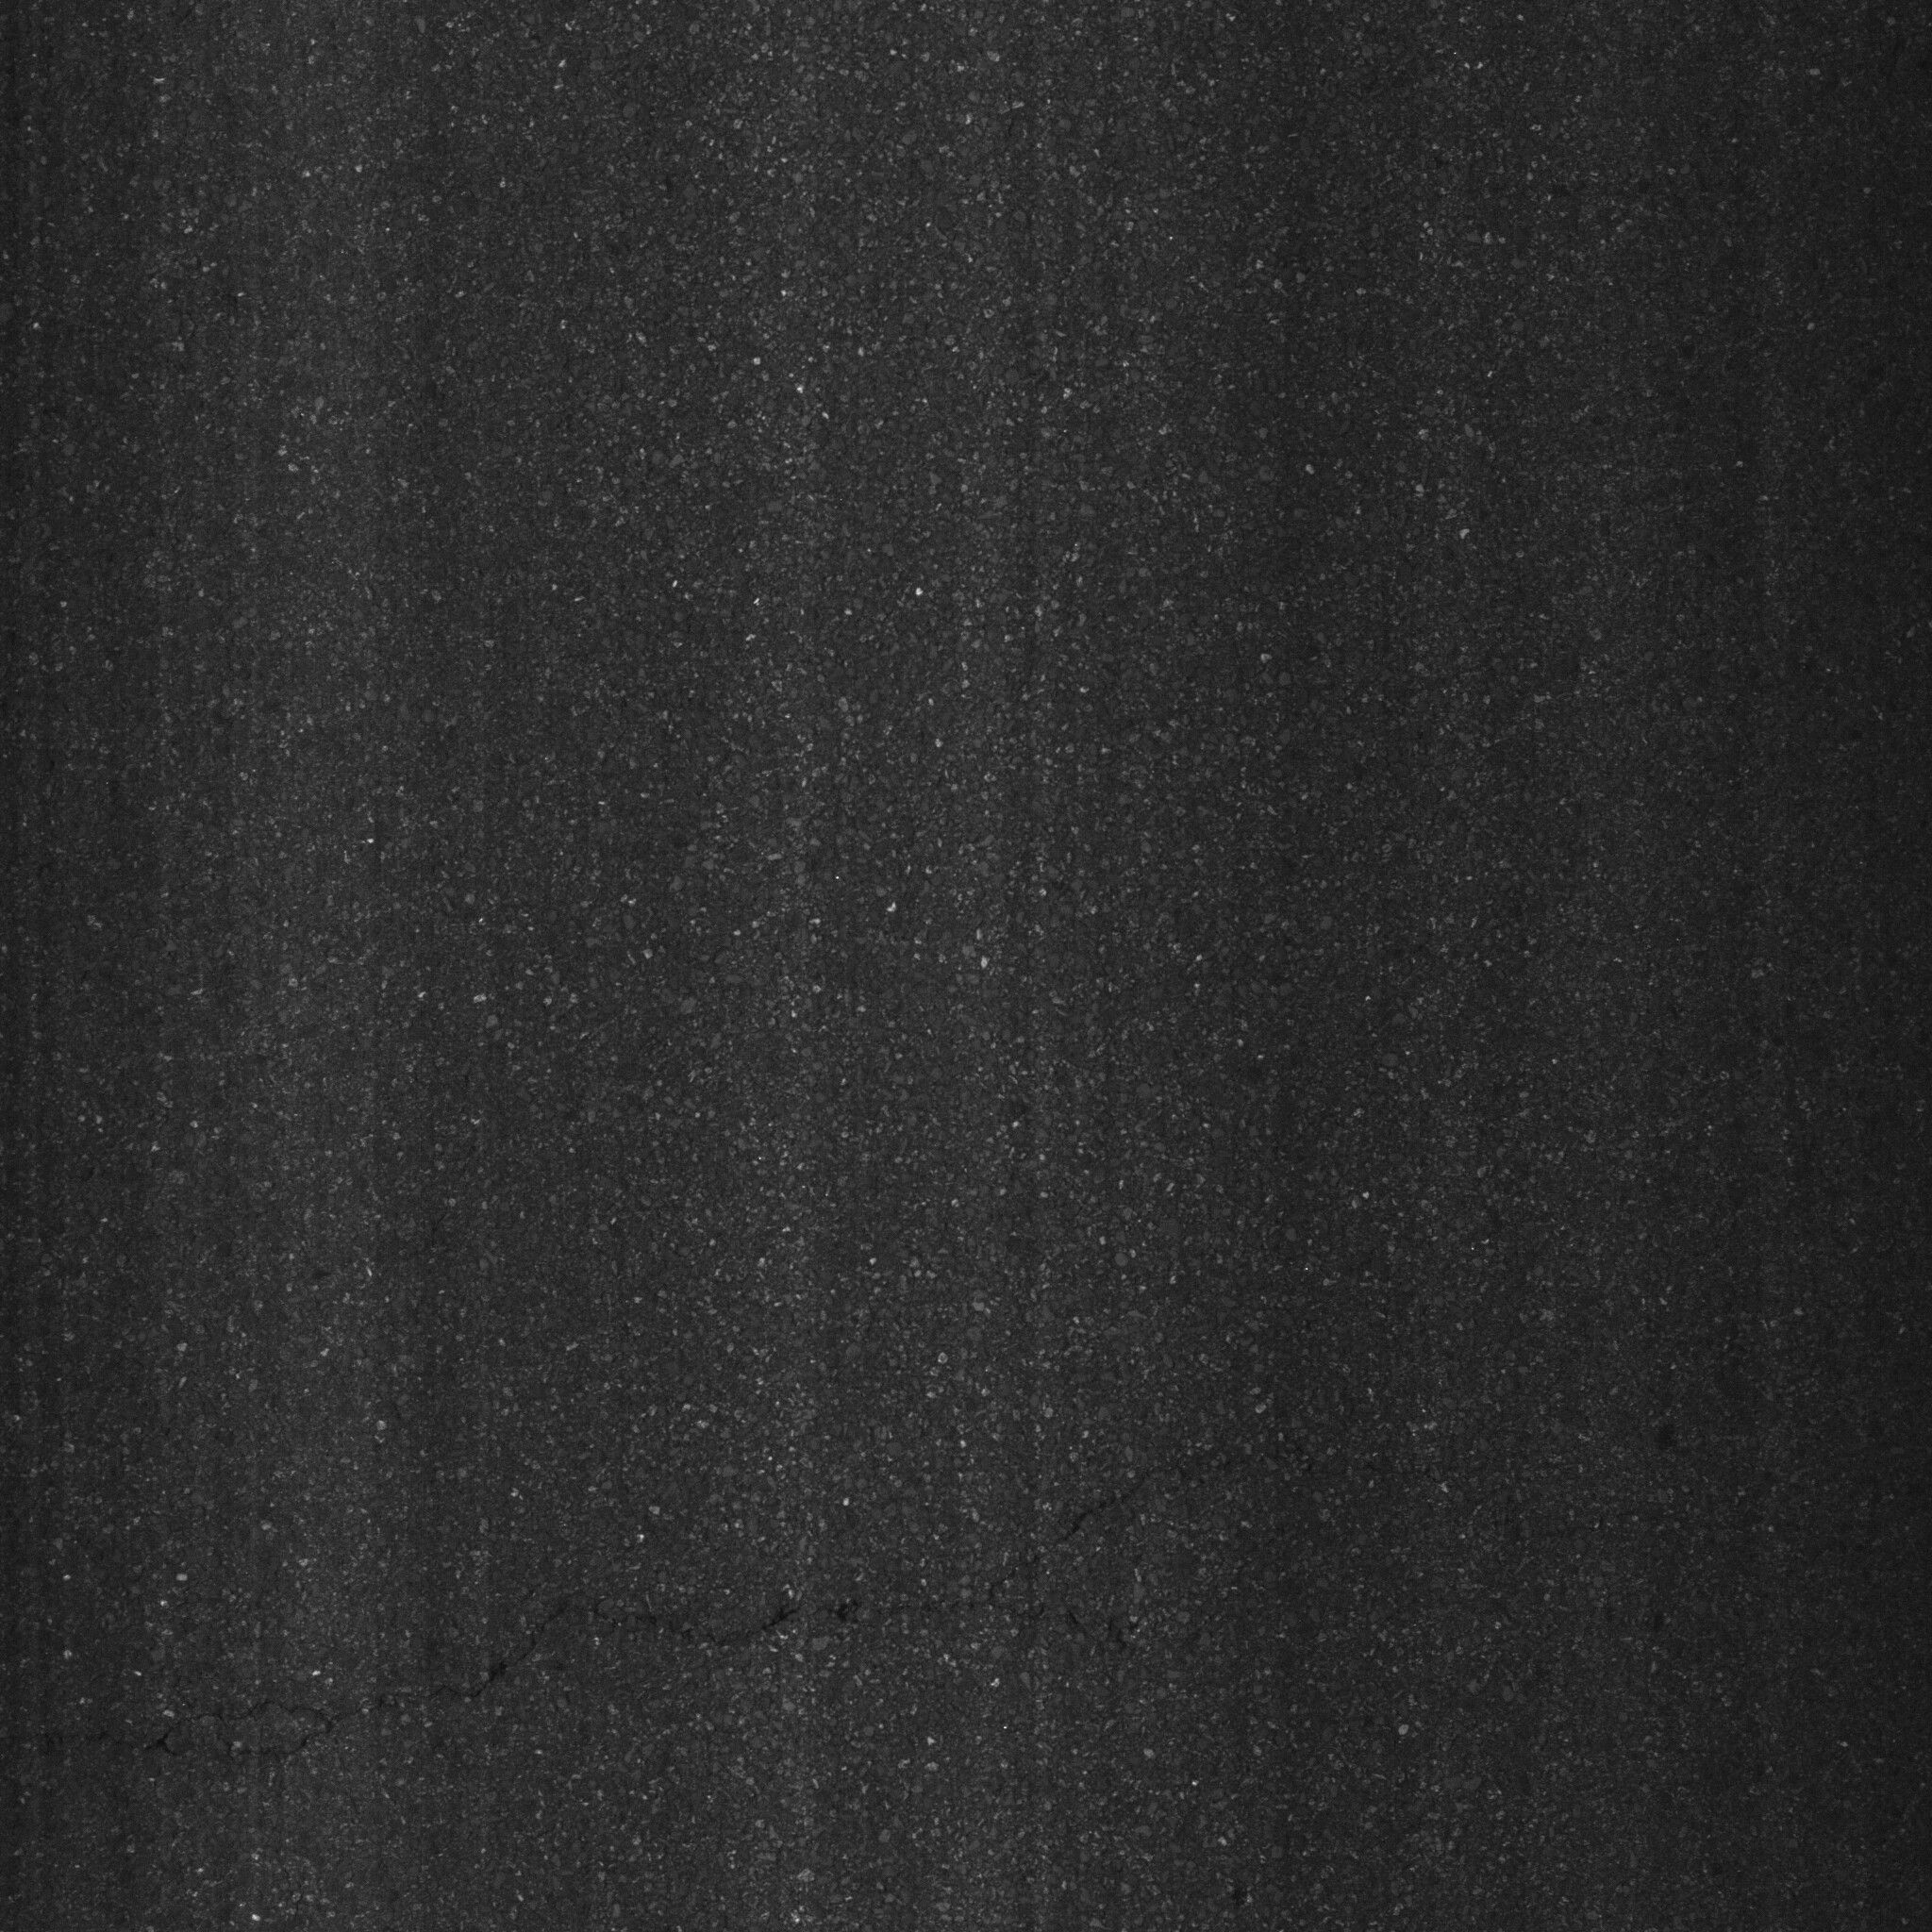transverse: (41, 1421, 1930, 1799)
